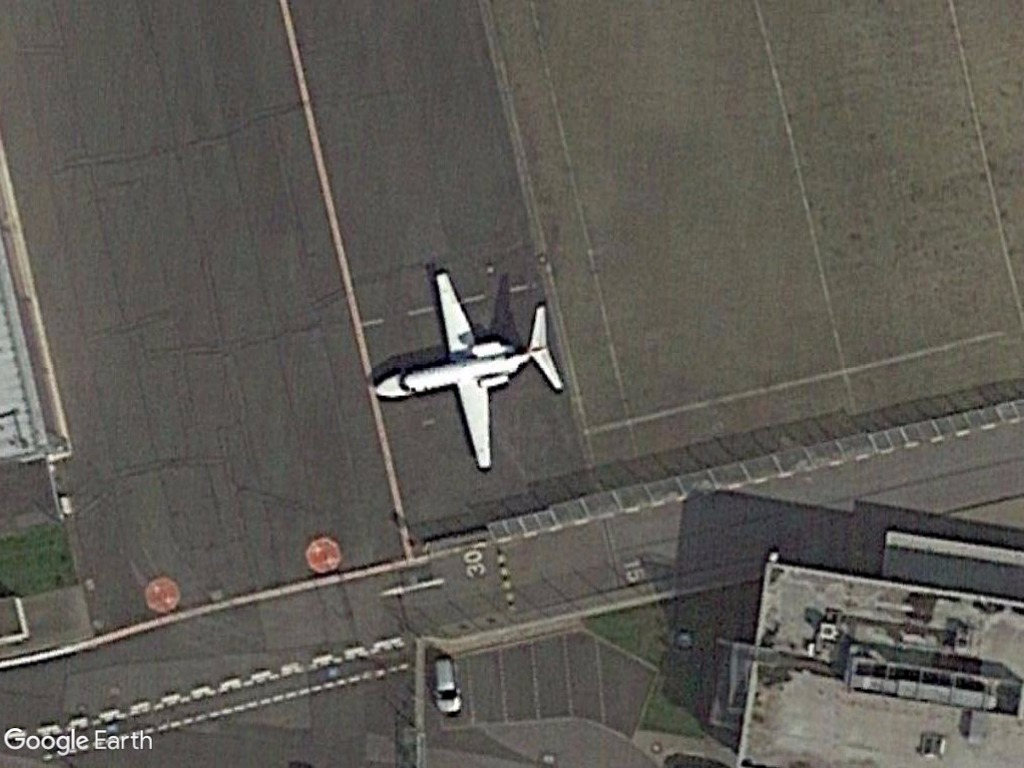car: (426, 651, 465, 719)
chartered: (358, 264, 567, 477)
